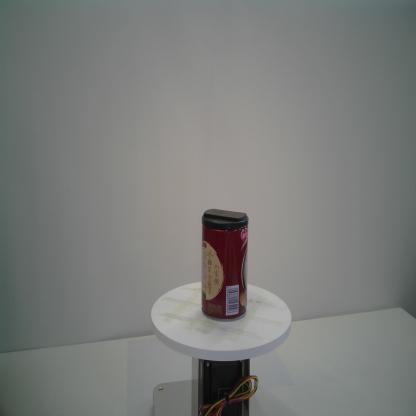Canned Food: (200, 208, 250, 324)
